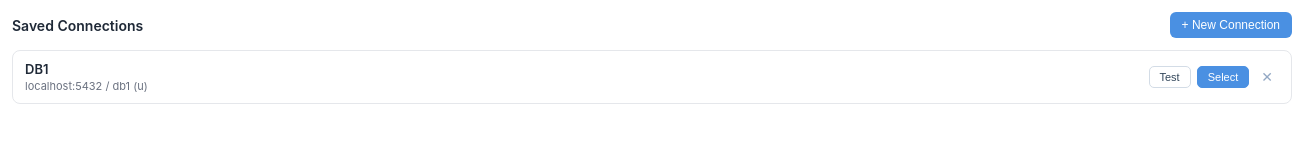
AddPostgisLayerForm › shows "Add Layer" button
Expected: the text "DB1" is shown, top-left (25, 61), bottom-right (48, 77)
Click the button titled "Use this connection": (1223, 77) top-left (1197, 66), bottom-right (1249, 88)
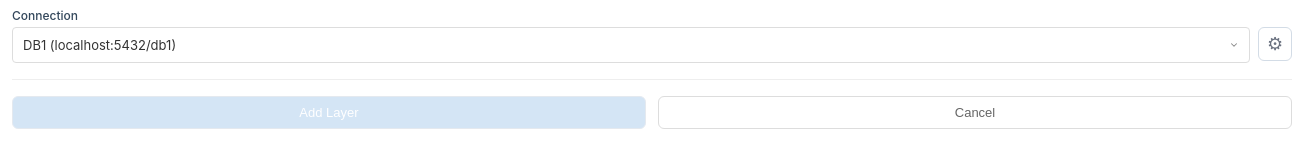
Expected: the button "Add Layer" is shown, top-left (12, 96), bottom-right (646, 129)
